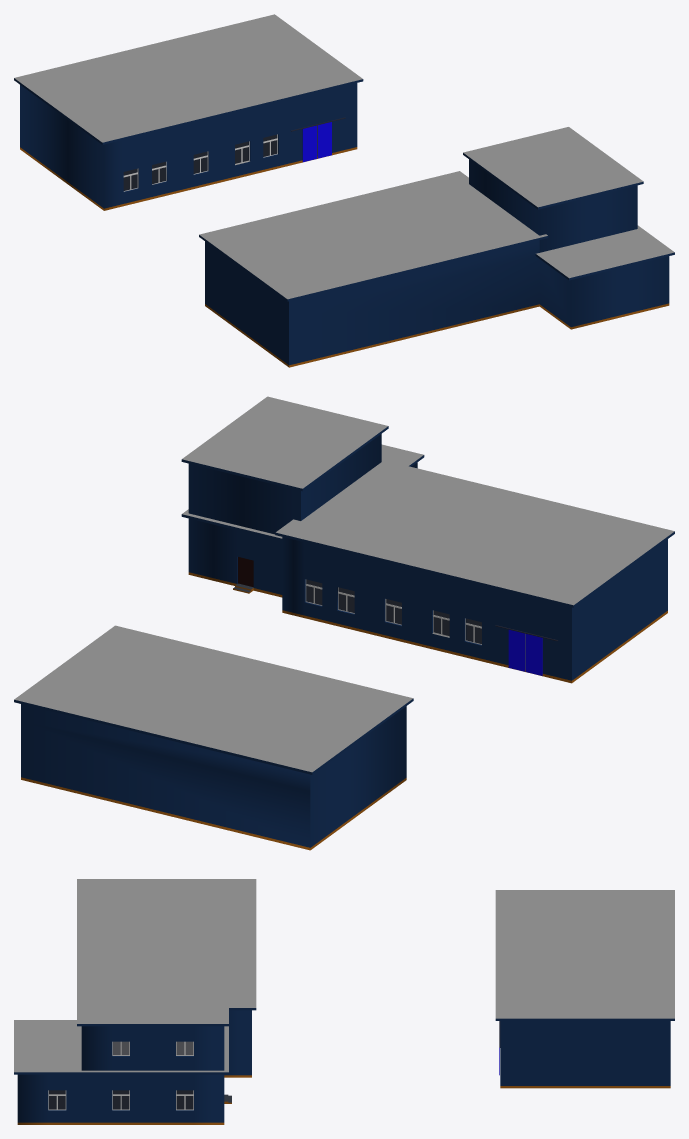
The picture shows the model from 3 angles, top to bottom: view 1: azimuth 30°, elevation 25°; view 2: azimuth 150°, elevation 25°; view 3: azimuth 270°, elevation 25°; orthographic projection. The views are drawn at different scales.
Visible parts, largest first — view 1: Object065; view 2: Object065; view 3: Object065.
Boxes of the visible parts, x1,y1,x2,y2 form: Object065: (14, 14, 674, 367); Object065: (14, 396, 674, 850); Object065: (14, 879, 674, 1124).
Size of the model in its own units: 3265 by 890 by 5182.
